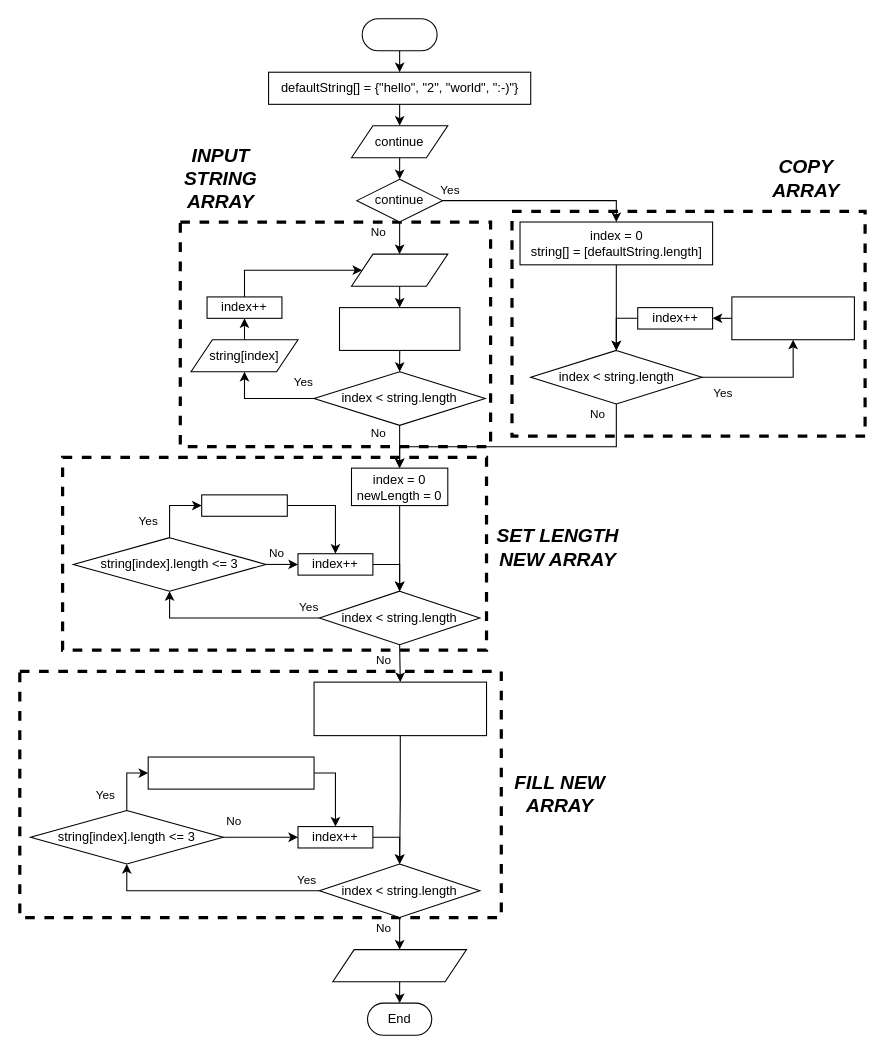
The diagram is 885 pixels wide and 1054 high, and some of its shapes have lost their labels. Each missing label, with the box of its shape:
Begin: (361, 18, 437, 51)
index = 0 j = 0 newString[] = [newLength]: (313, 681, 487, 736)
index = 0 string[] = [length]: (338, 307, 460, 350)
length: (350, 253, 448, 286)
newLength++: (201, 494, 287, 516)
newString[j] = string[index] j++: (147, 756, 314, 789)
print(newString): (332, 949, 467, 982)
string[index] = defaultString[index]: (731, 296, 854, 340)
